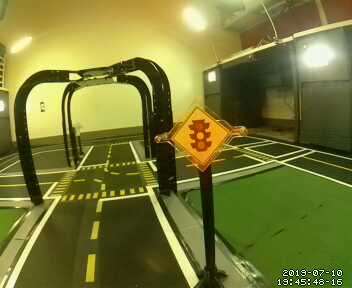Traffic light sign: (172, 108, 231, 167)
